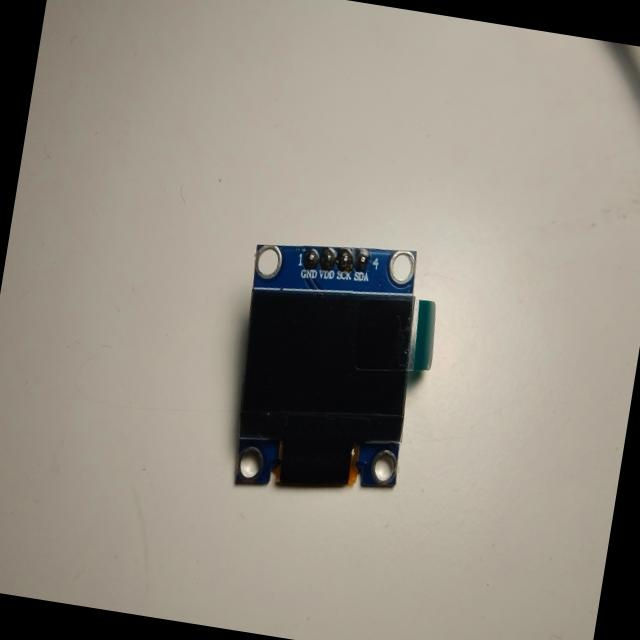oled: (215, 216, 454, 516)
